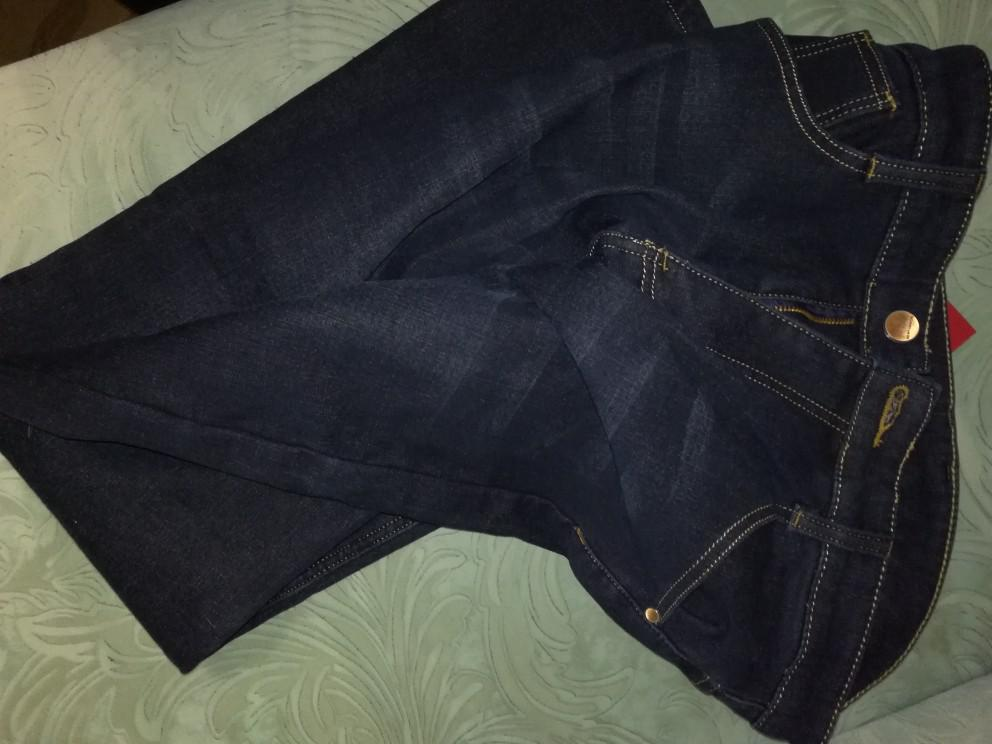jeans: (97, 10, 992, 707)
